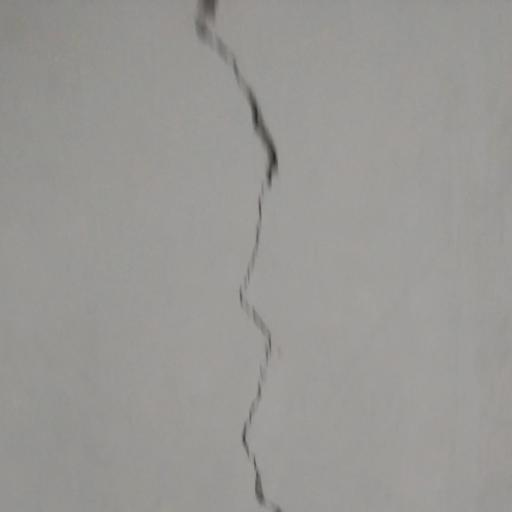minor_crack: (186, 0, 302, 512)
